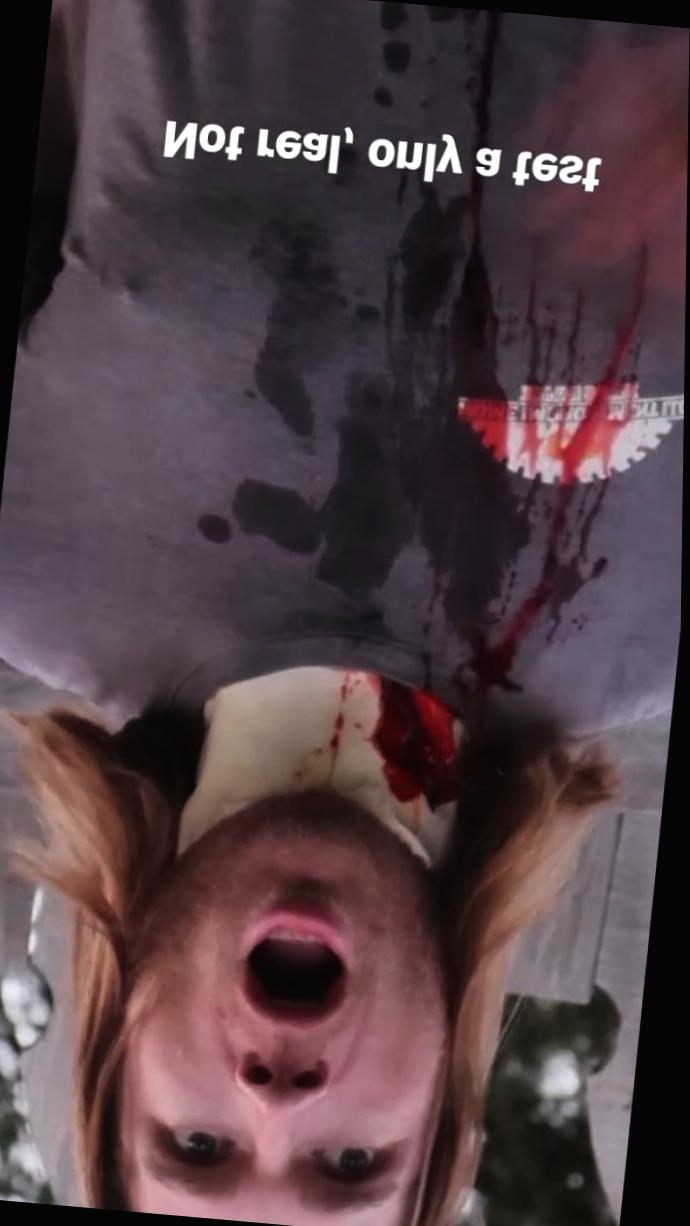Fire: (321, 9, 651, 818)
